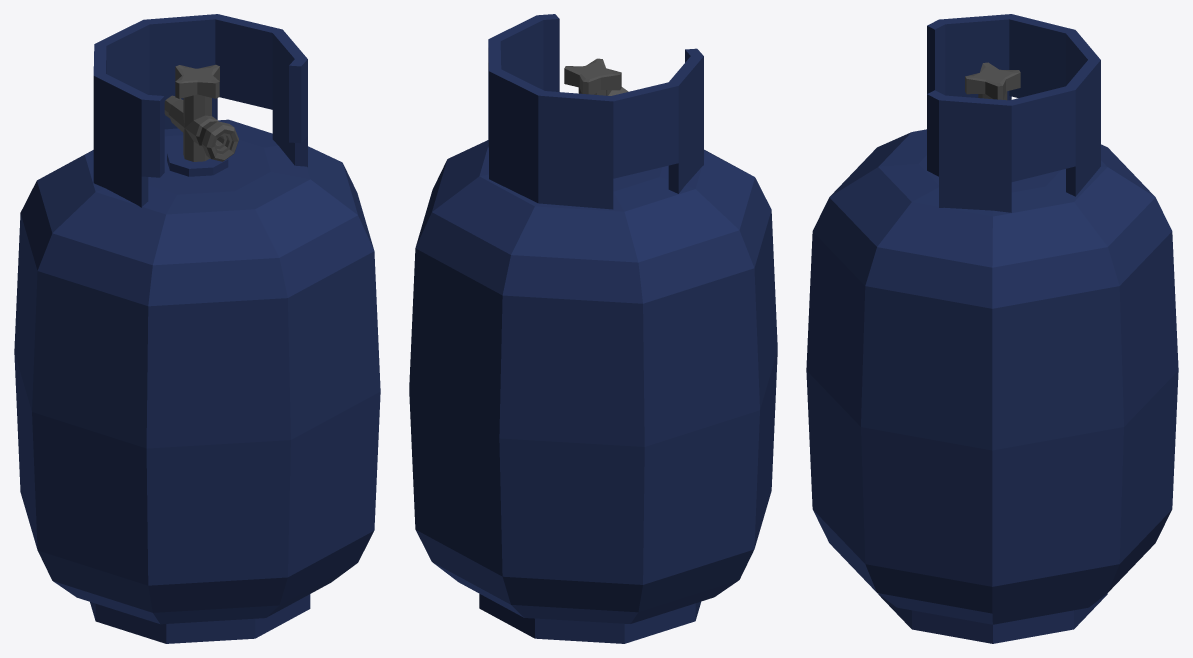
The model's file is LP_Propane_02.fbx.
3 views of the same model, side by side, from view 1: azimuth 30°, elevation 25°; view 2: azimuth 150°, elevation 25°; view 3: azimuth 270°, elevation 25° (orthographic).
Visible parts, largest first — view 1: LP_Propane_02; view 2: LP_Propane_02; view 3: LP_Propane_02.
Part boxes in pixels (x1,y1,x2,y2): LP_Propane_02: (14,14,380,643); LP_Propane_02: (409,14,777,643); LP_Propane_02: (806,14,1178,643).
Size of the model in its own units: 0.4672 by 0.7245 by 0.4572.
